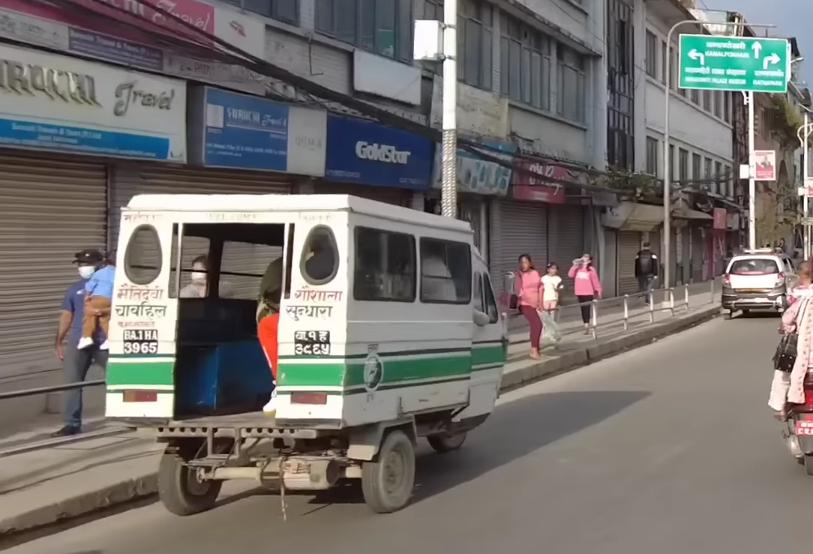tempo: (102, 187, 518, 516)
